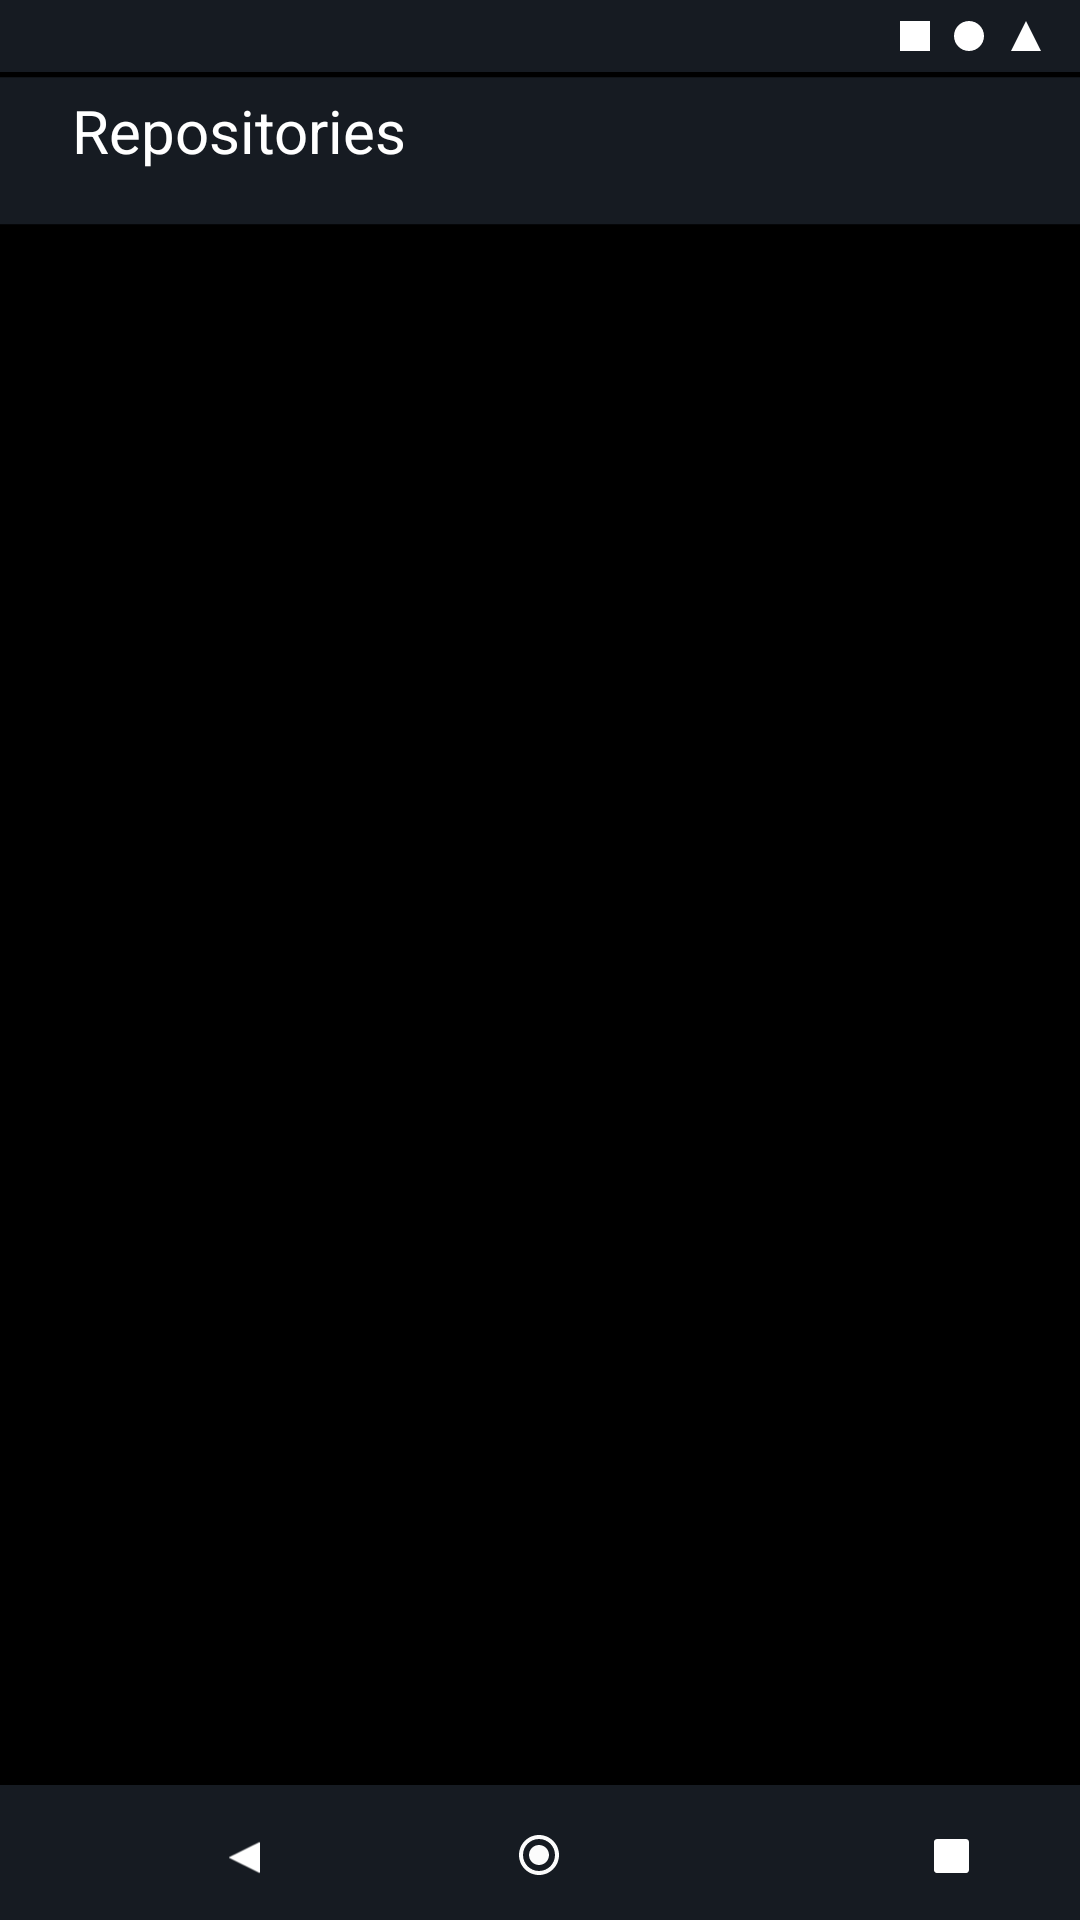

Screen size 1080w x 1920h. Icon name, then its center in pixels as point (x, y):
radio checked: point (539, 1855)
